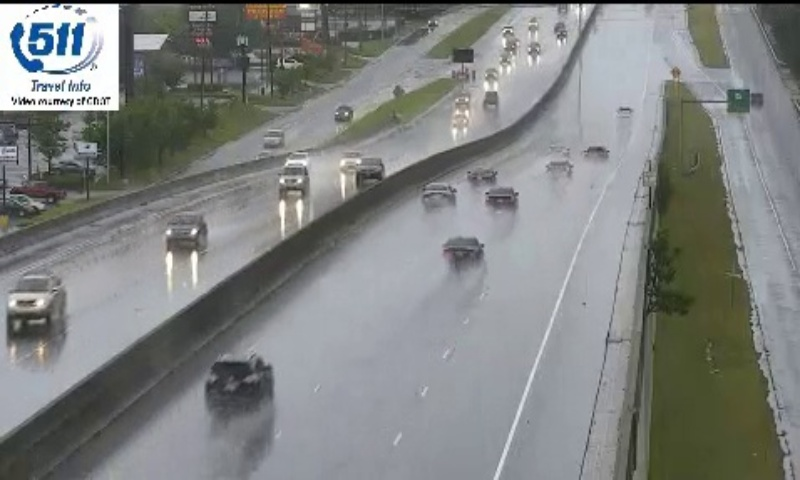car: (204, 354, 274, 409), (441, 238, 485, 268), (421, 182, 455, 211), (484, 186, 519, 211), (468, 167, 497, 188)
